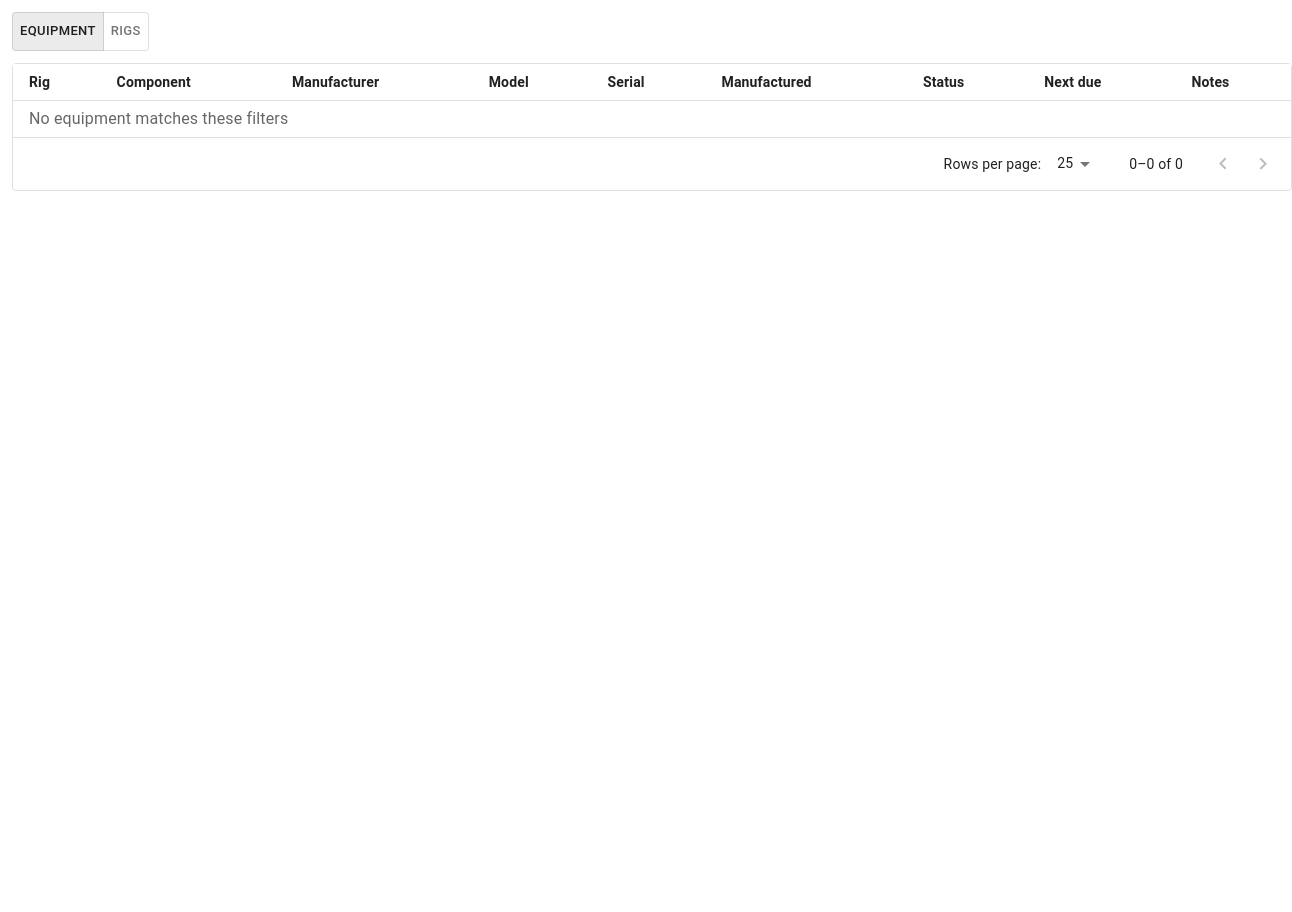
Test case: GearGrid › rigs table › is paginated too
This screenshot has width=1292, height=912.
Click the button "Rigs".
click(126, 31)  # box x1=103 y1=12 x2=149 y2=51
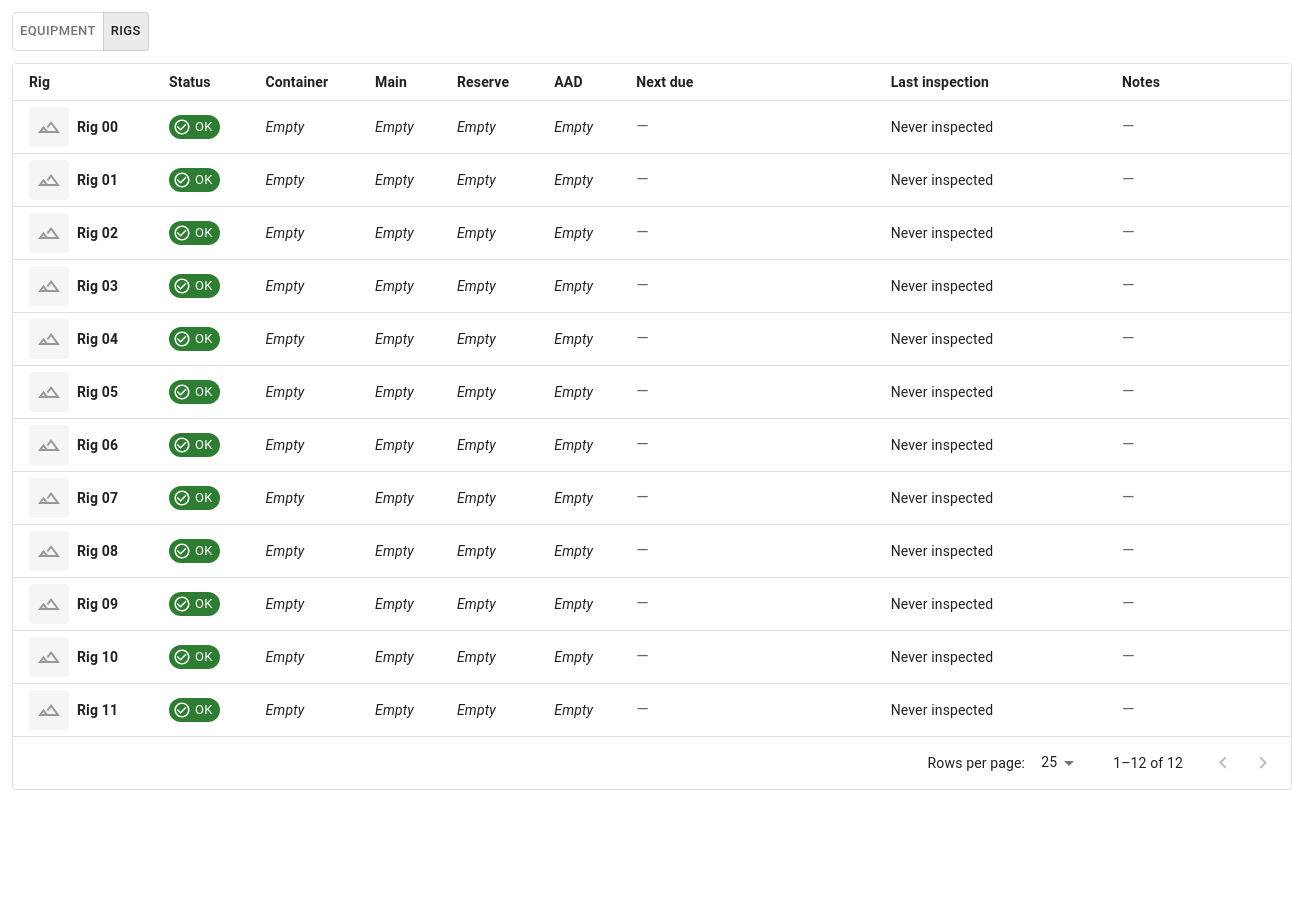
Click the dropdown named "rows per page".
click(1049, 762)  # box x1=1041 y1=754 x2=1057 y2=770
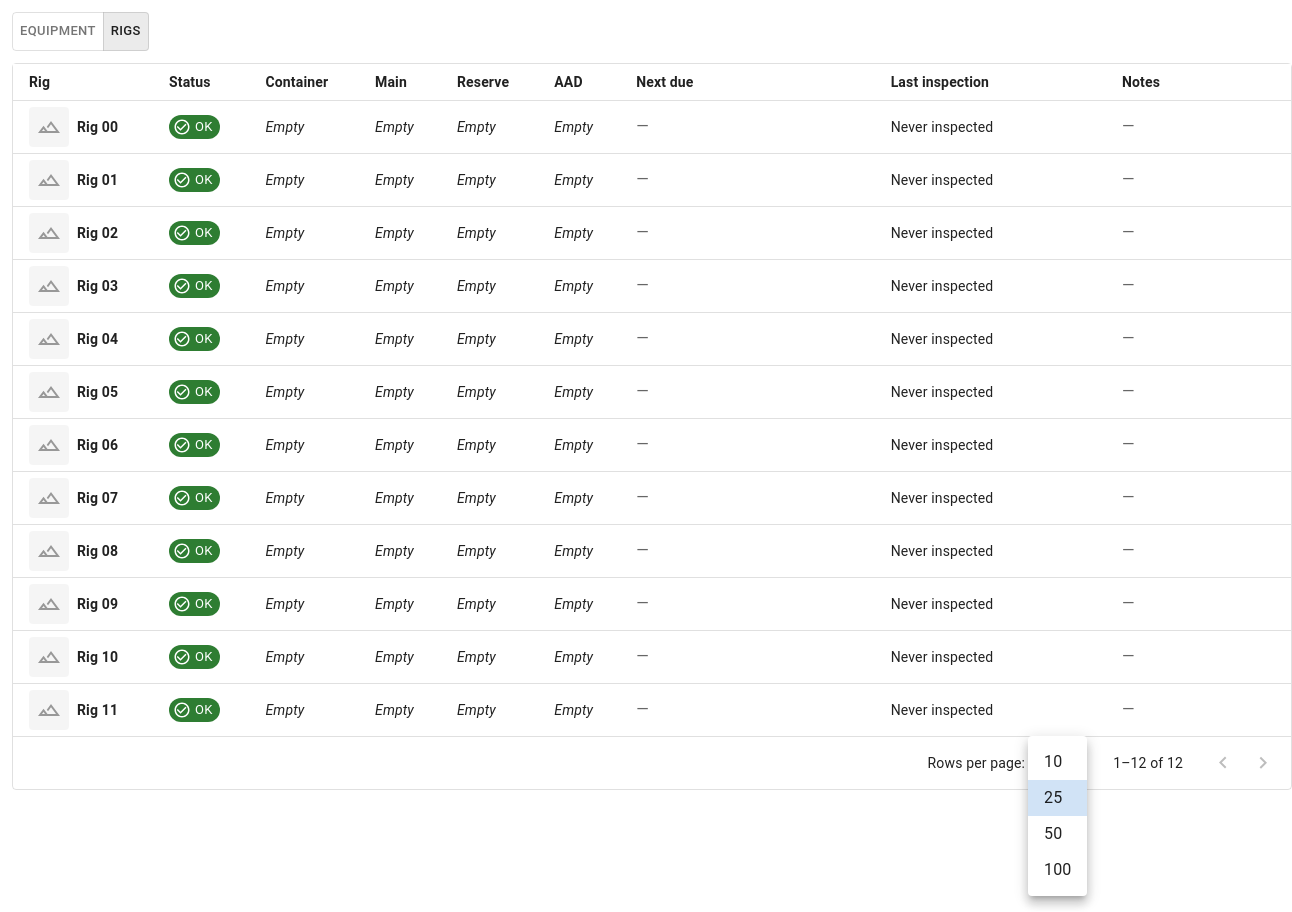
Click the option "10".
click(1053, 762)  # box x1=1044 y1=752 x2=1062 y2=771
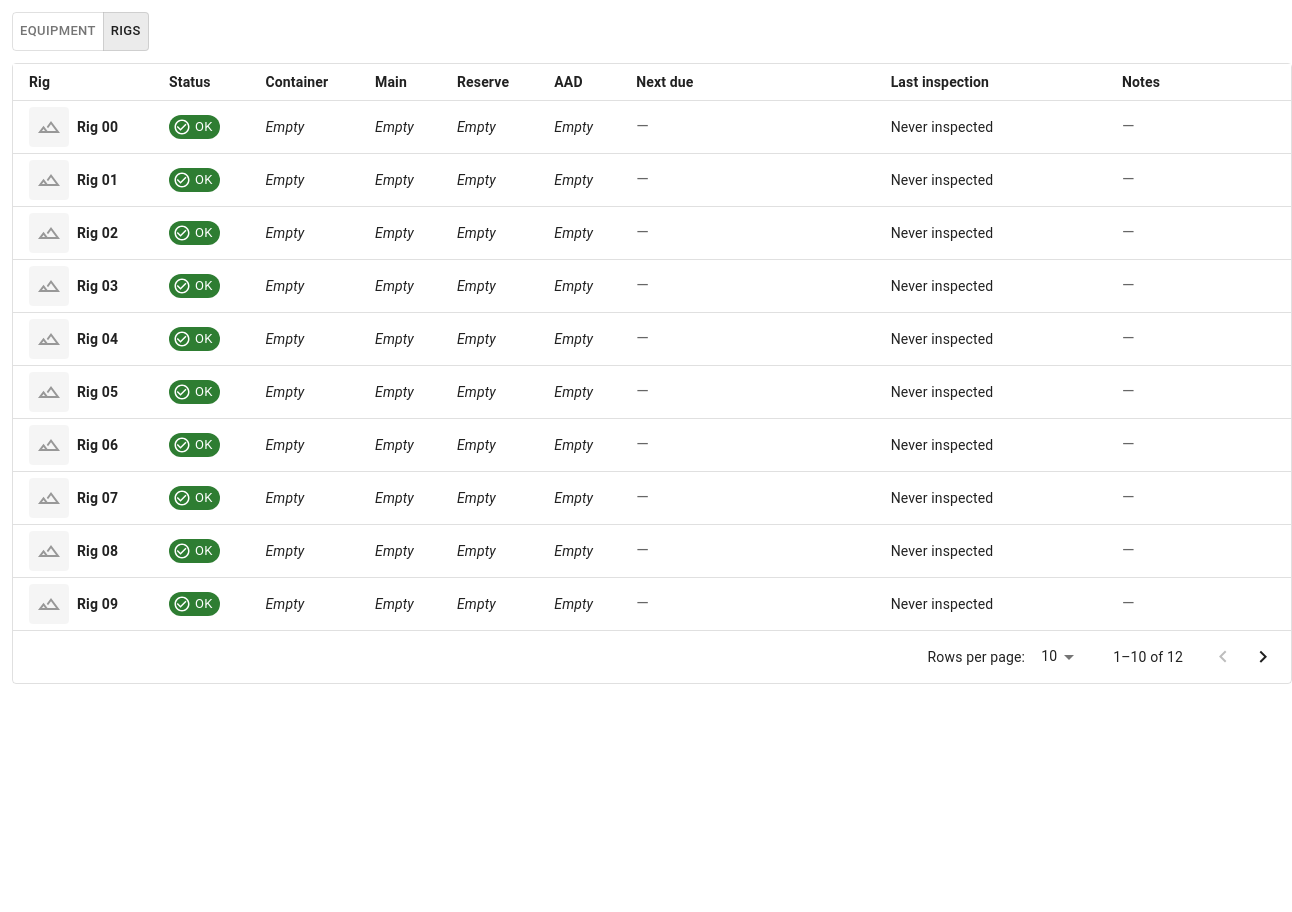
Check: the text "1–10 of 12" is shown, box x1=1113 y1=647 x2=1183 y2=667
